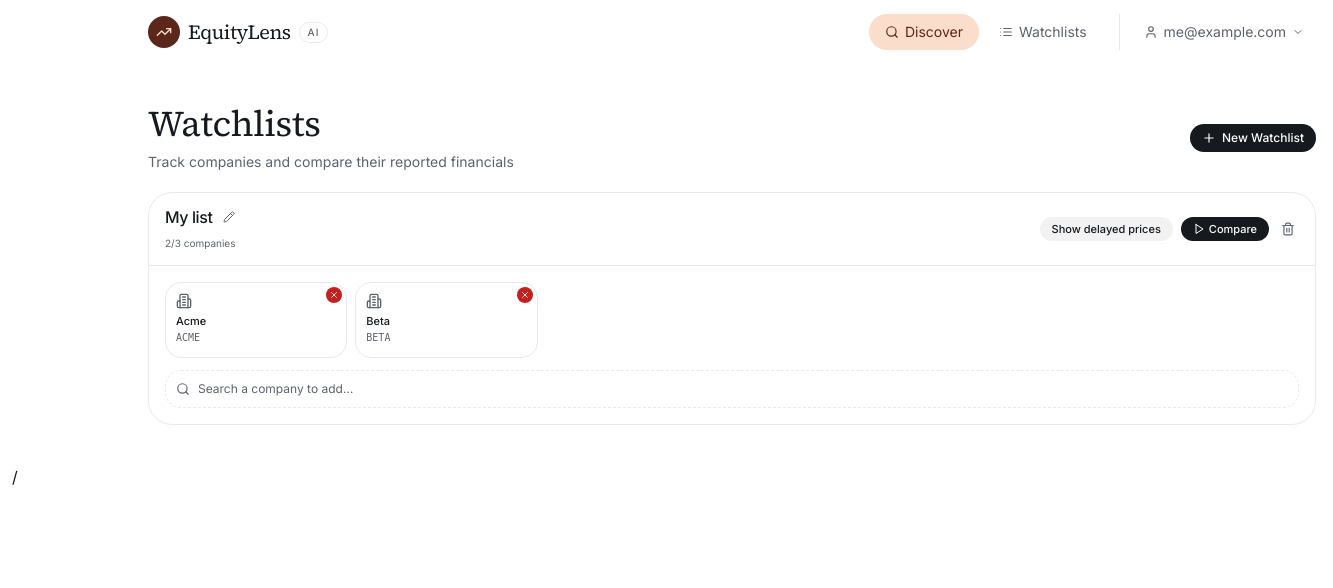
WatchlistsPage › loads prices only on request and shows unavailable rows honestly
This screenshot has width=1333, height=588.
Expected: the text "Acme" is shown, [176,314,206,328]
Click the button "Show delayed prices".
click(1106, 229)  # box [1040,217,1173,241]
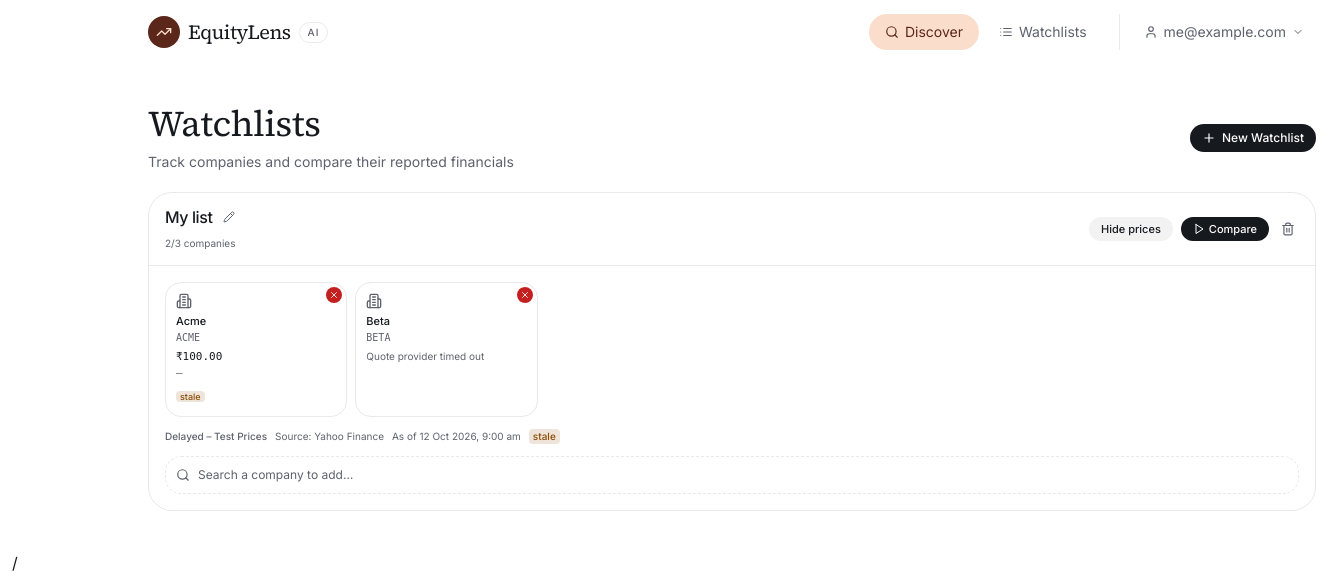
Now the text "Quote provider timed out" is shown, box [366,350,484,362]
Now the text "stale" below "₹100.00" is shown, box [180,390,201,402]
Now the text "Delayed – Test Prices" is shown, box [165,428,267,444]
